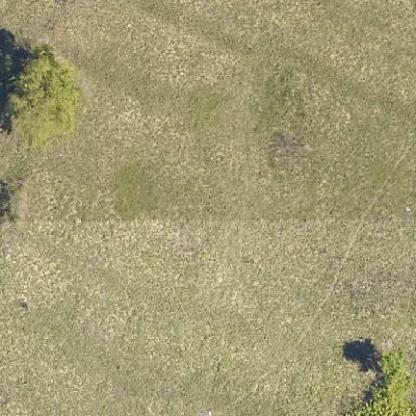tree-top: (1, 41, 87, 148), (344, 347, 410, 415)
